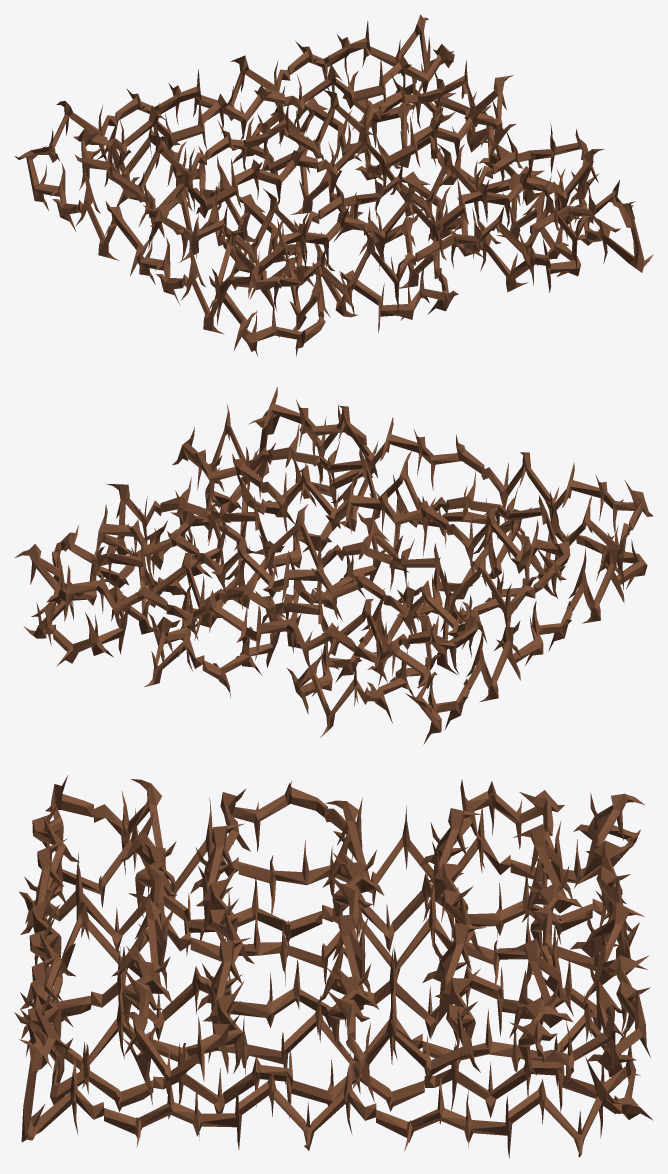
Rendered from arame-espinhoroseira-pequenos.fbx.
The picture shows the model from 3 angles, top to bottom: view 1: azimuth 30°, elevation 25°; view 2: azimuth 150°, elevation 25°; view 3: azimuth 270°, elevation 25°; orthographic projection. The views are drawn at different scales.
Visible parts, largest first — view 1: espinhos_roseira_pequenos; view 2: espinhos_roseira_pequenos; view 3: espinhos_roseira_pequenos.
Boxes of the visible parts, box(x1,y1,x2,y2) form: espinhos_roseira_pequenos: box(14, 14, 653, 356); espinhos_roseira_pequenos: box(15, 387, 653, 744); espinhos_roseira_pequenos: box(14, 775, 653, 1158).
Size of the model in its own units: 2.16 by 0.5673 by 2.15.
